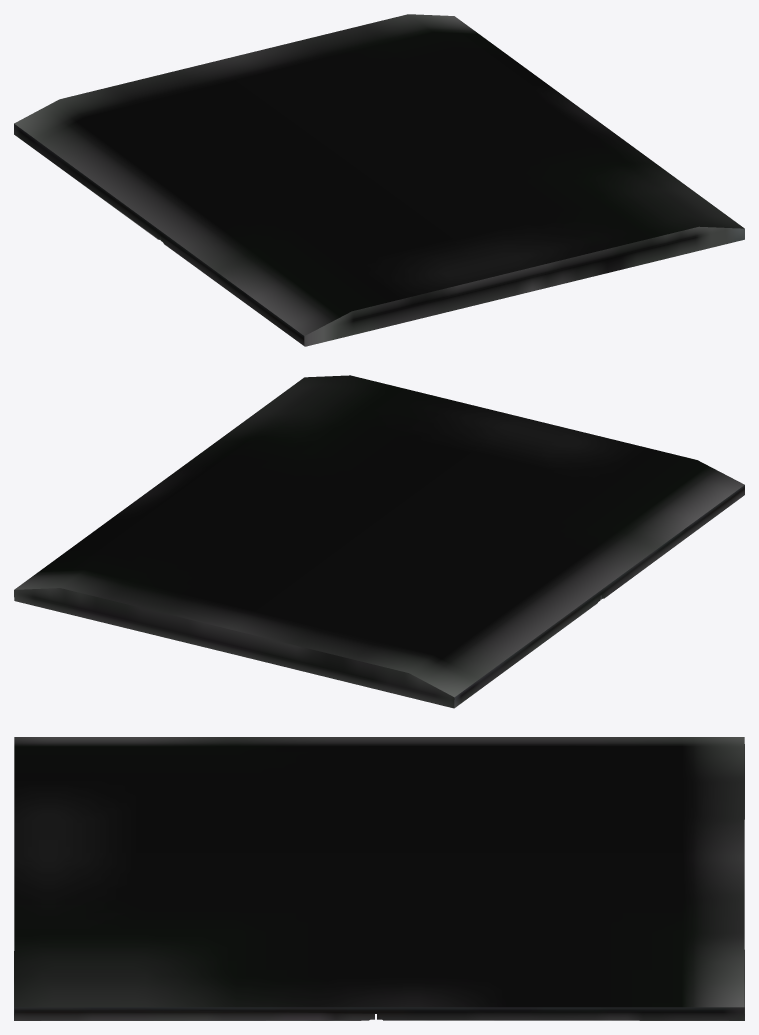
Rendered from SM_Ceiling06.gltf.
The picture shows the model from 3 angles, top to bottom: view 1: azimuth 30°, elevation 25°; view 2: azimuth 150°, elevation 25°; view 3: azimuth 270°, elevation 25°; orthographic projection. The views are drawn at different scales.
Parts seen in each view (by area): view 1: SM_Ceiling06; view 2: SM_Ceiling06; view 3: SM_Ceiling06.
Part boxes in pixels (<box>): SM_Ceiling06: <box>14,14,744,346</box>; SM_Ceiling06: <box>14,375,744,708</box>; SM_Ceiling06: <box>14,737,744,1020</box>.
Bounding box in the file's own units: 8.95 × 0.4753 × 10.22.
Materials: 1 (1 with a texture image).
